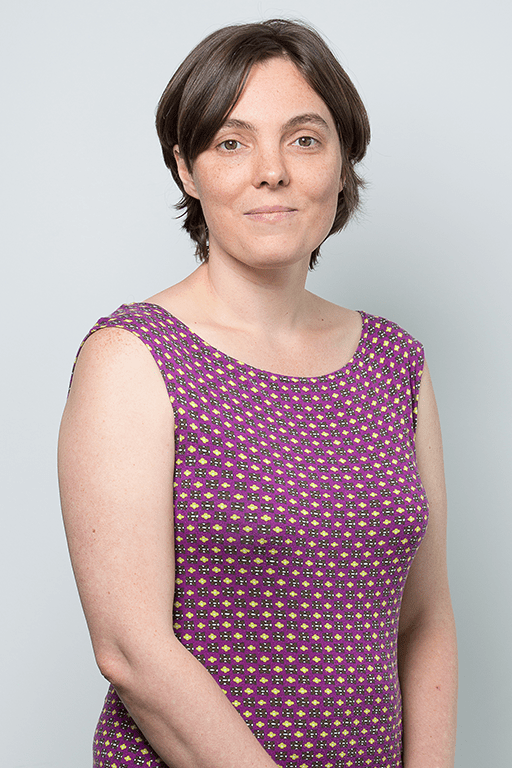without_mask: (211, 111, 327, 247)
